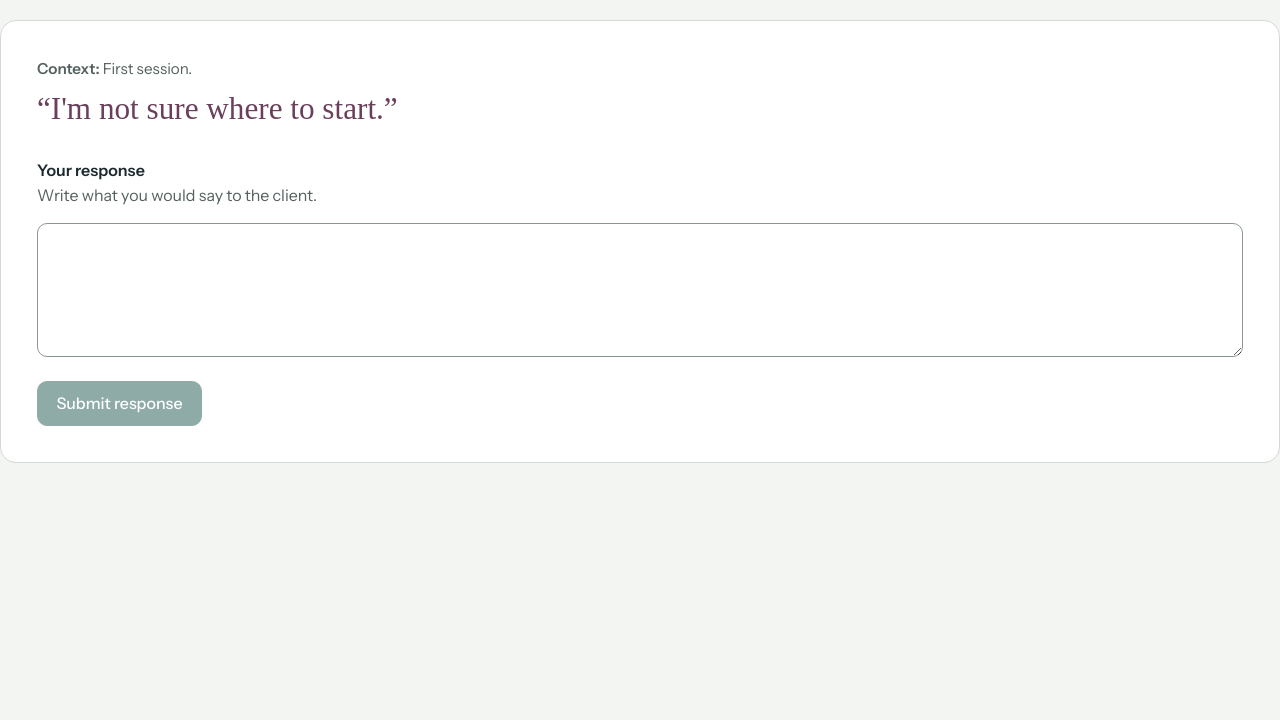
Test: DrillCard › retry clears the text box and keeps earlier attempts listed
Type "A response that is long enough." into the text box labelled "Your response" at coordinates (640, 290), box [37,223,1243,357]
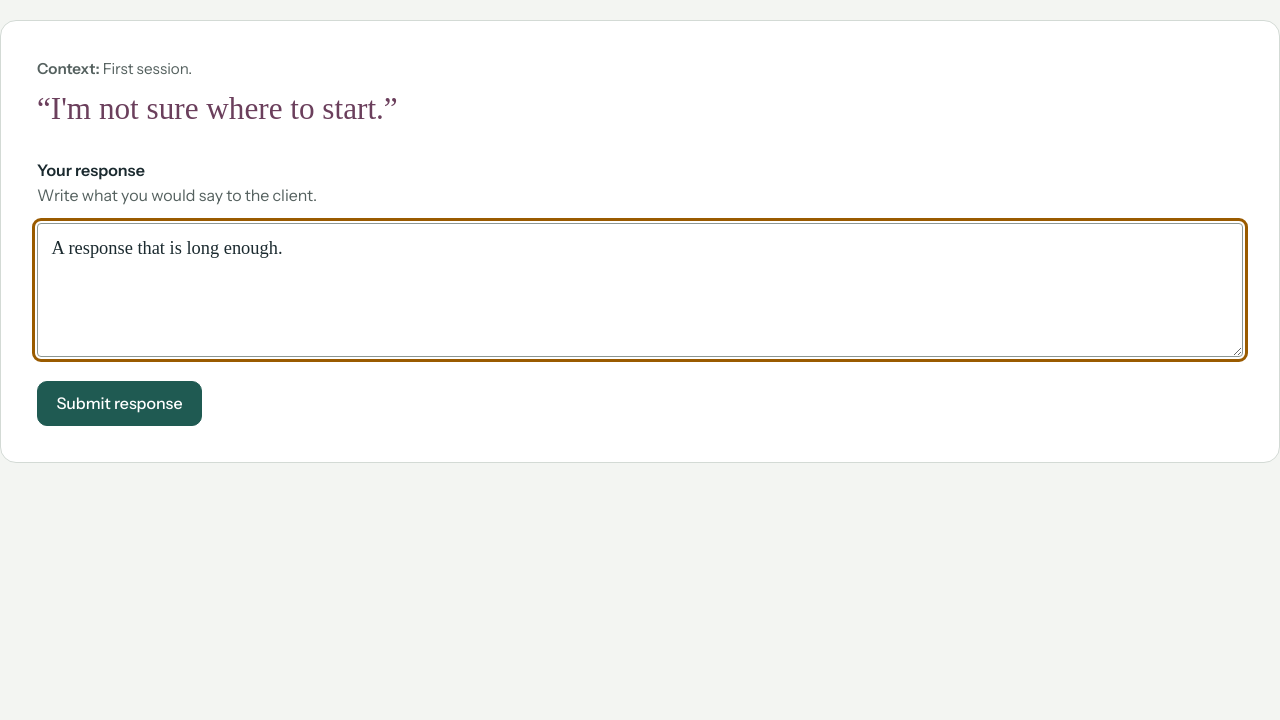
Click the button "Submit response" at coordinates (120, 404), box [37,381,202,426]
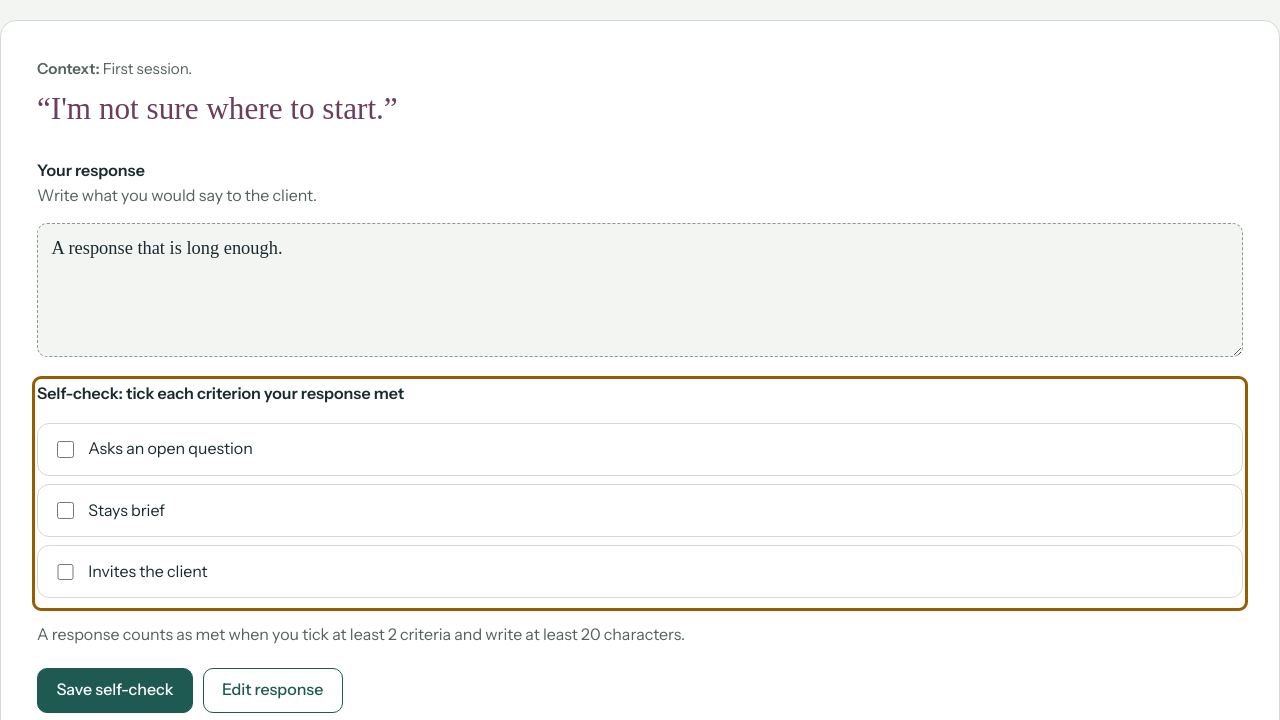
Click the button "Save self-check" at coordinates (115, 690), box [37,668,193,713]
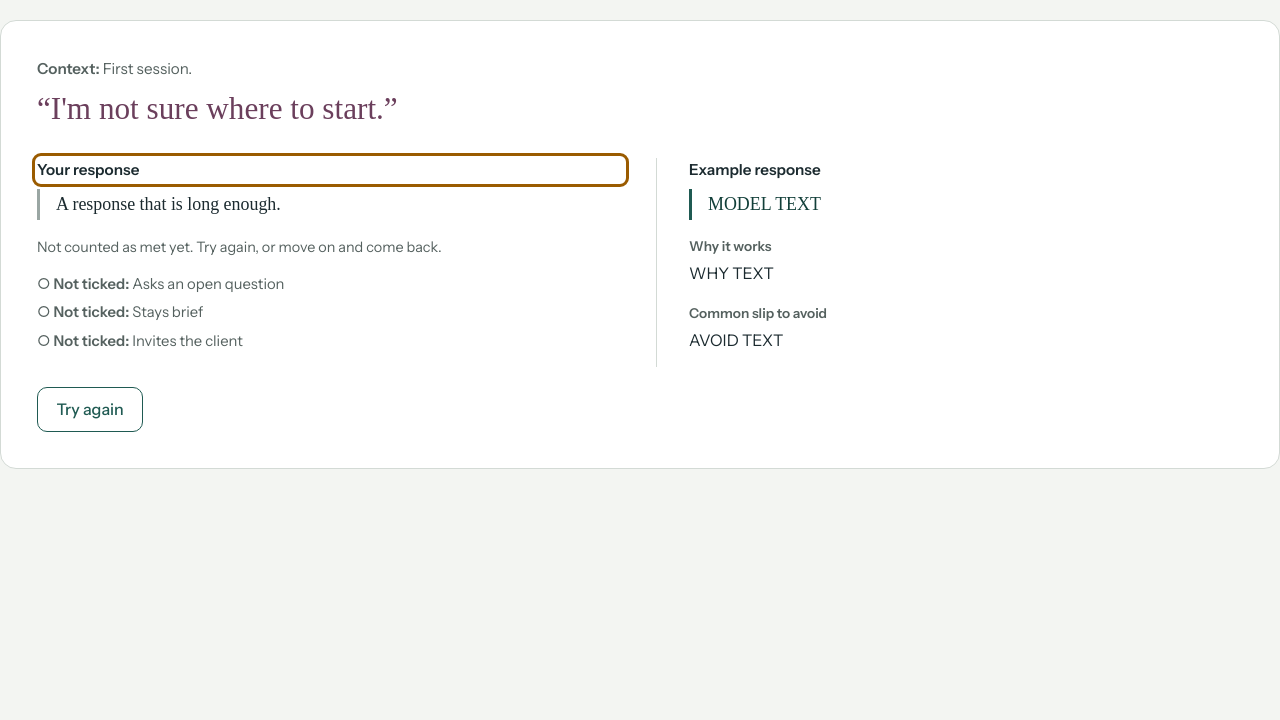
Now the text "MODEL TEXT" is shown, box [689,189,1243,220]
Click the button "Try again" at coordinates (90, 410), box [37,387,143,432]
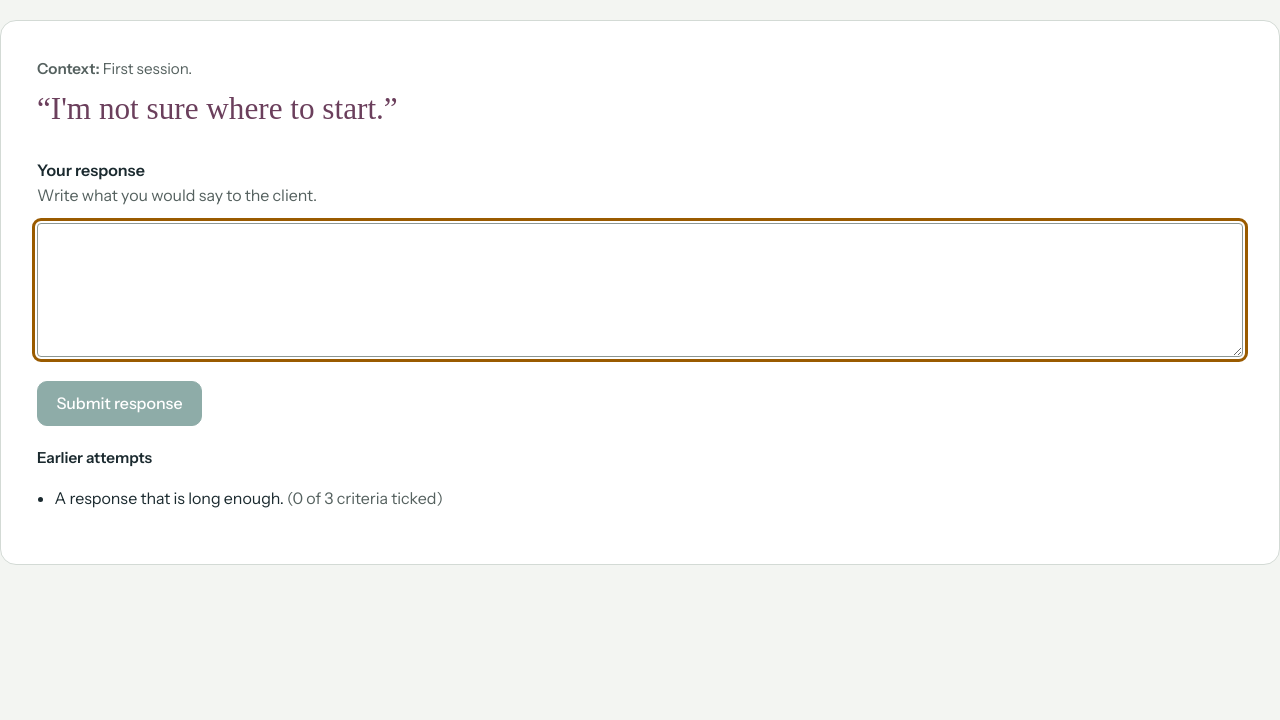
Now the text "A response that is long enough." is shown, box [55,488,284,508]
Now the text box labelled "Your response" is empty, box [37,223,1243,357]
Now the number of list items is 1, box [55,488,443,508]
